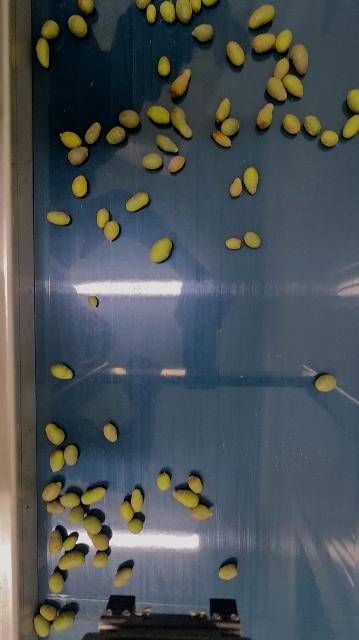Baby Potato: (170, 104, 194, 140), (248, 2, 276, 30), (149, 236, 174, 264), (290, 42, 311, 75), (170, 68, 192, 99), (266, 75, 289, 104), (282, 72, 306, 99), (58, 548, 86, 569), (251, 32, 277, 54), (225, 40, 246, 67), (256, 102, 276, 130), (173, 487, 201, 507), (242, 165, 260, 196), (126, 190, 150, 213), (35, 37, 52, 69), (51, 609, 75, 631), (147, 104, 172, 125), (155, 133, 180, 154), (81, 485, 107, 505), (275, 27, 294, 54), (68, 14, 89, 38), (118, 108, 141, 129), (315, 372, 338, 393), (45, 422, 66, 445), (176, 0, 194, 26), (67, 145, 89, 166), (42, 479, 62, 502), (342, 112, 359, 139), (84, 121, 102, 146), (188, 503, 214, 520), (48, 447, 65, 473), (192, 22, 214, 42), (282, 113, 302, 135), (59, 129, 82, 148), (141, 151, 164, 170), (303, 113, 322, 136), (48, 529, 64, 556), (50, 362, 74, 380), (105, 125, 126, 145), (113, 566, 133, 587), (33, 614, 50, 638), (71, 174, 88, 198), (220, 116, 240, 136), (215, 97, 231, 122), (218, 562, 239, 581), (41, 18, 60, 39), (89, 532, 110, 551), (273, 56, 291, 78), (345, 86, 359, 114), (160, 0, 176, 24), (47, 210, 71, 226), (83, 514, 102, 534), (212, 130, 233, 148), (59, 491, 81, 508), (49, 571, 65, 594), (104, 219, 120, 242), (167, 154, 186, 173), (320, 129, 340, 147), (63, 443, 78, 467), (244, 230, 262, 249), (61, 533, 78, 553), (40, 603, 58, 621), (187, 475, 204, 494), (103, 422, 119, 442), (96, 207, 111, 228), (68, 505, 84, 524), (156, 472, 171, 492), (131, 488, 143, 513), (119, 500, 133, 521), (230, 176, 243, 198), (158, 55, 171, 77), (77, 0, 96, 15), (145, 3, 158, 24), (93, 551, 109, 568), (225, 236, 243, 251), (127, 518, 143, 534), (200, 0, 223, 8), (189, 0, 202, 13), (135, 0, 153, 9), (87, 295, 99, 308)
